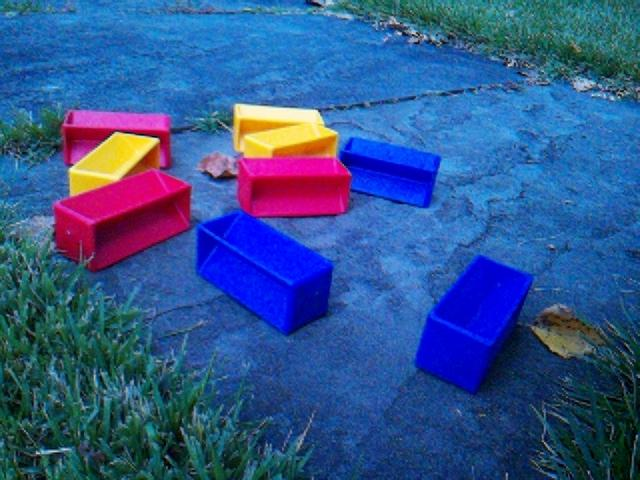blue: (196, 210, 335, 337), (415, 255, 535, 396), (339, 137, 443, 210)
red: (54, 169, 194, 274), (239, 158, 354, 219), (62, 110, 173, 170)
yellow: (69, 132, 162, 199), (234, 104, 326, 155), (245, 122, 339, 158)
